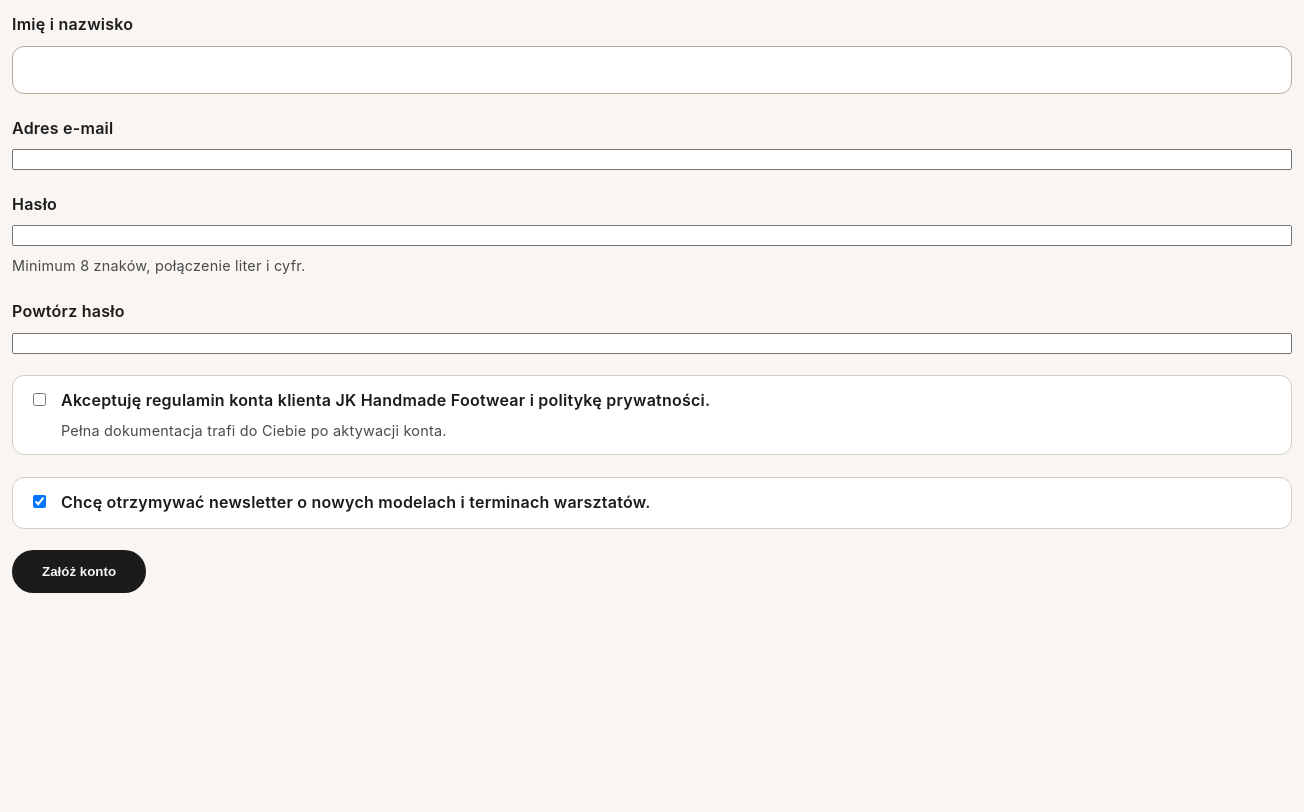
Test: AccountRegisterForm › submits the form and displays a success message
The width and height of the screenshot is (1304, 812).
Type "Jan Kowalski" into the field labelled "Imię i nazwisko". click: {"x": 652, "y": 70}
box: [12,46,1292,94]
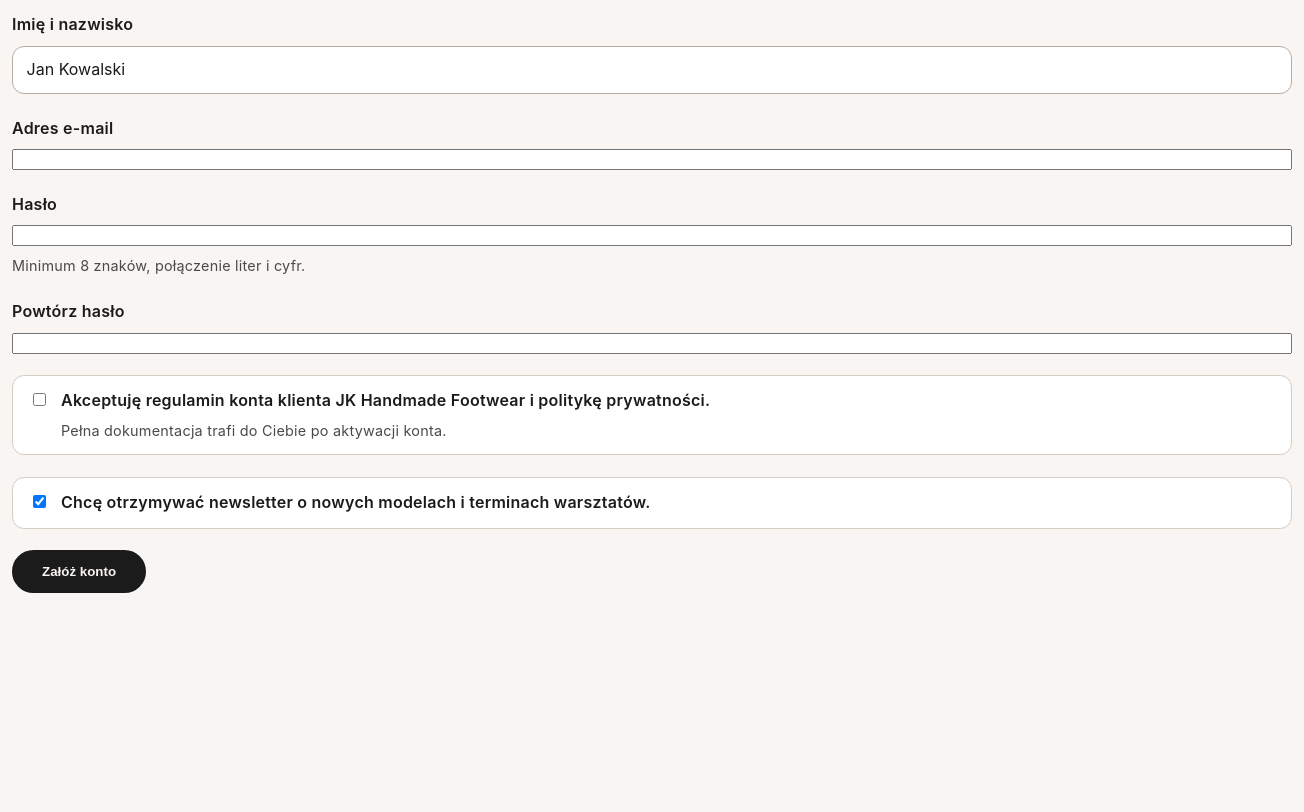
Type "jan@example.com" into the field labelled "Adres e-mail". click: {"x": 652, "y": 160}
box: [12,149,1292,170]
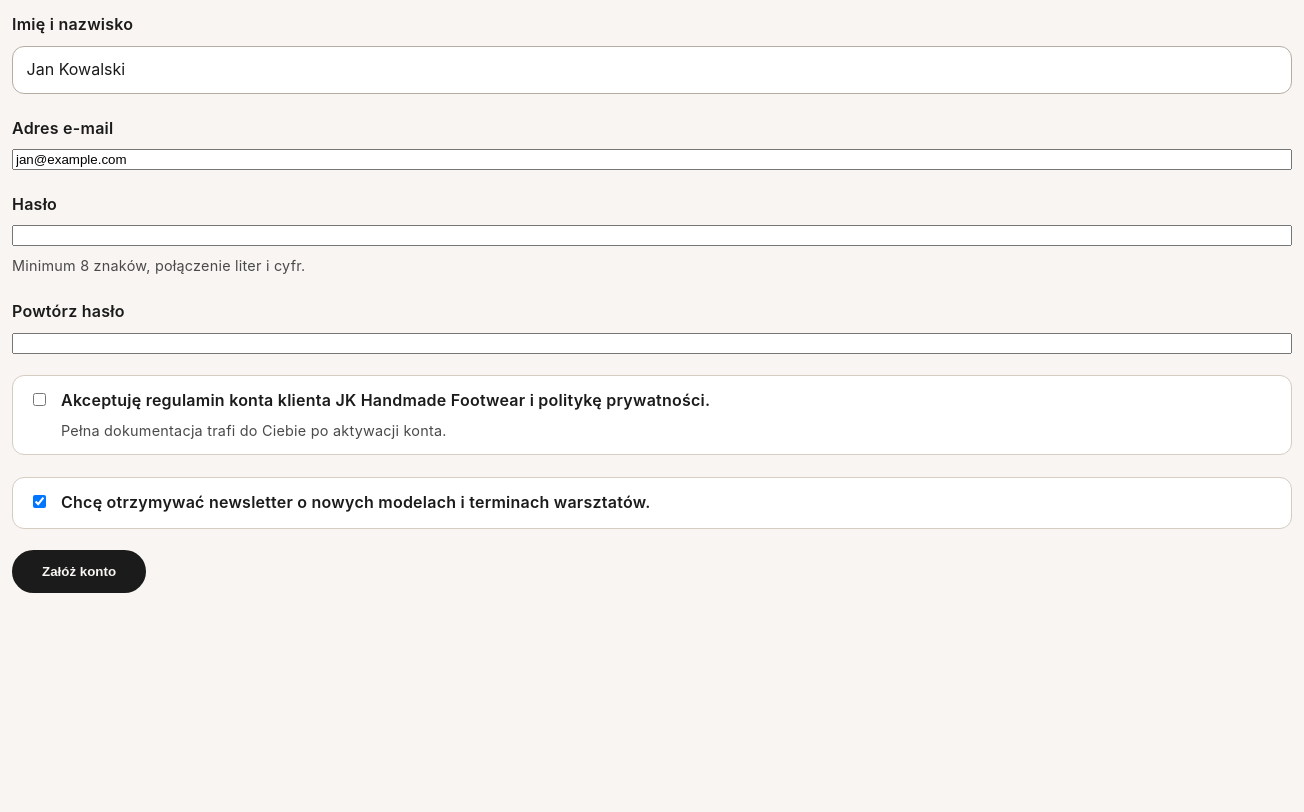
Type "silnehaslo" into the password field labelled "Hasło". click: {"x": 652, "y": 236}
box: [12,225,1292,246]
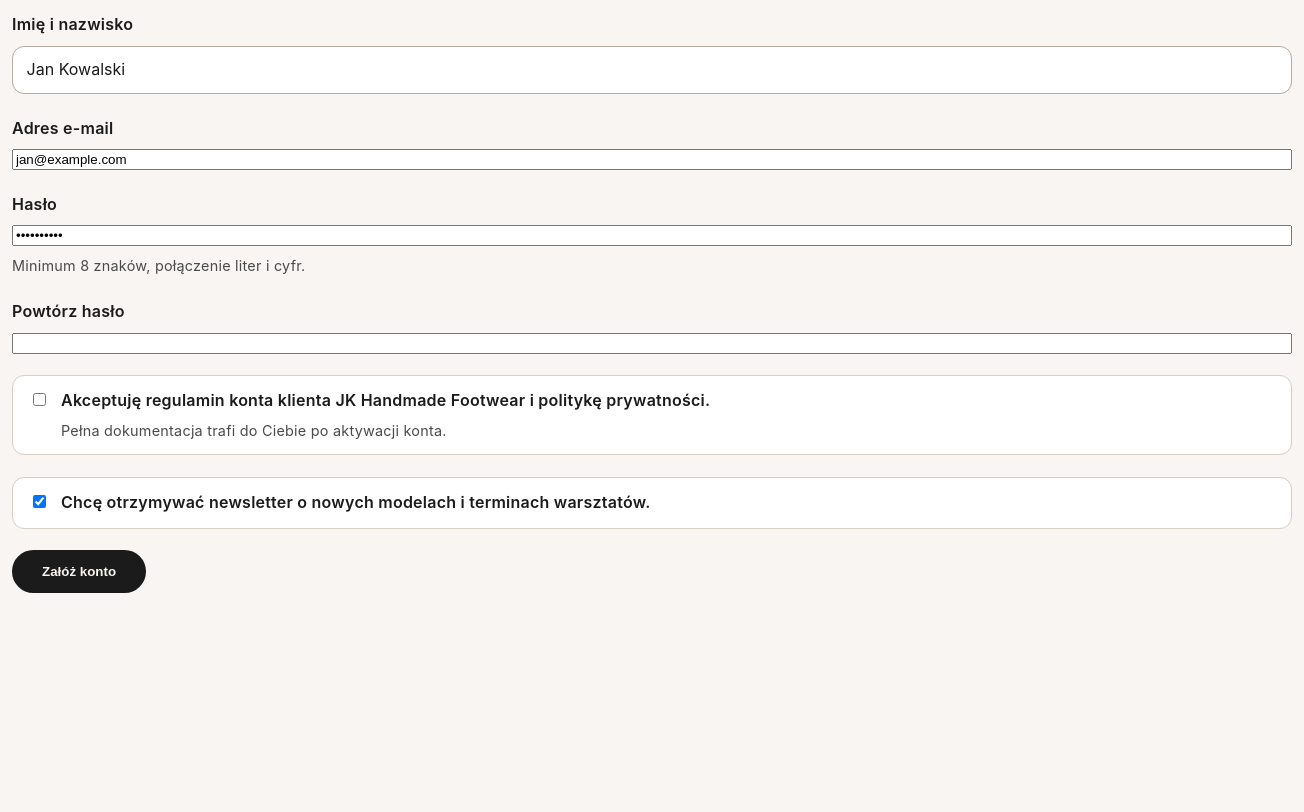
Type "silnehaslo" into the password field labelled "Powtórz hasło". click: {"x": 652, "y": 343}
box: [12,333,1292,354]
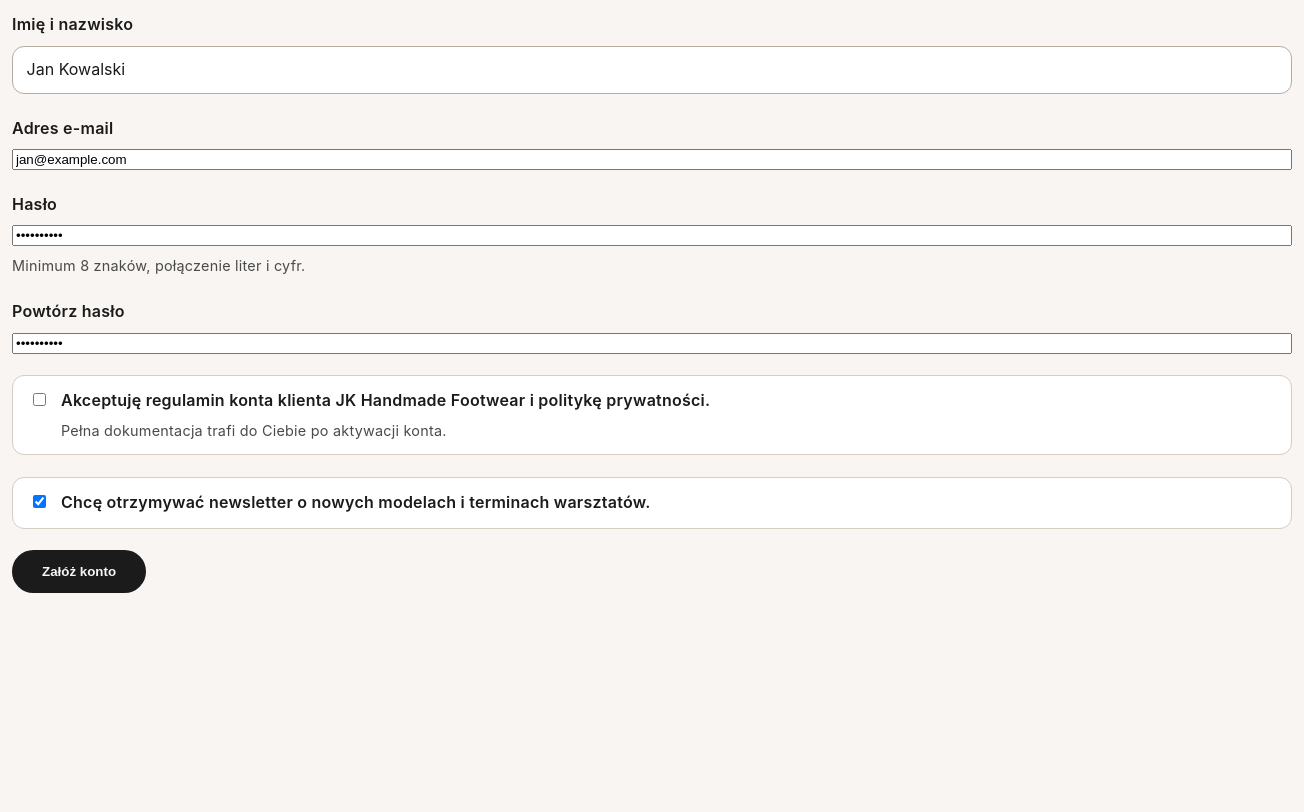
Click the checkbox labelled "Akceptuję regulamin konta". click: {"x": 40, "y": 400}
box: [33,393,46,406]
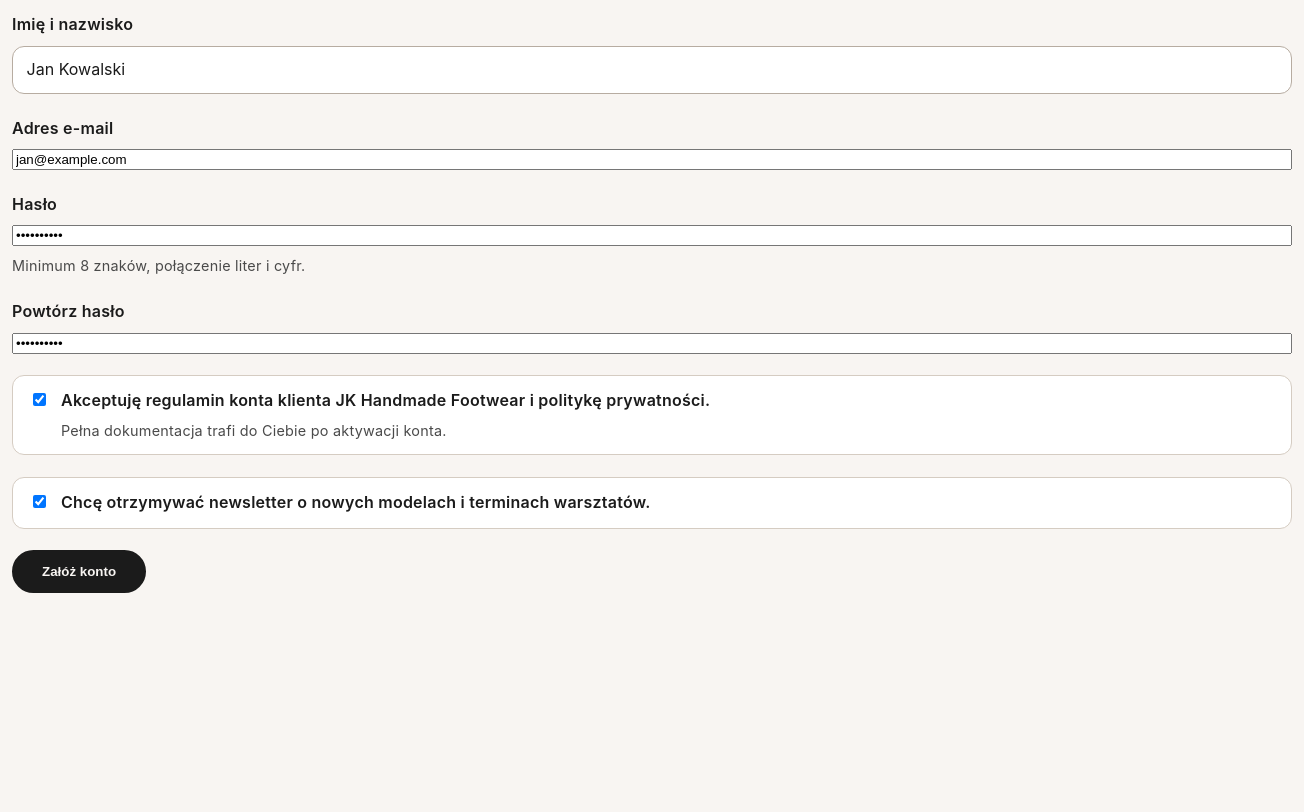
Click the button "Załóż konto". click: {"x": 79, "y": 572}
box: [12,550,146,593]
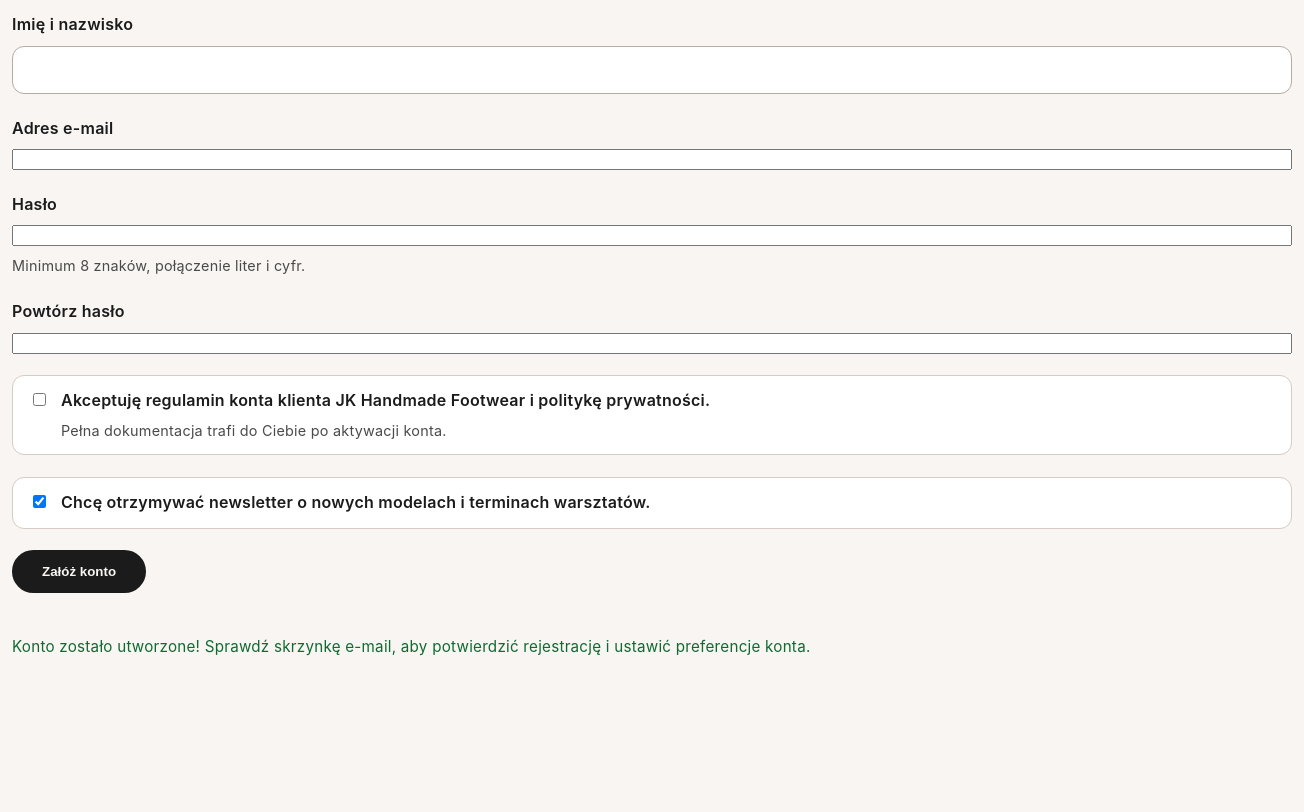
Check: the text "Konto zostało utworzone! Sprawdź skrzynkę e-mail, aby potwierdzić rejestrację" is shown, box [12,637,810,656]
